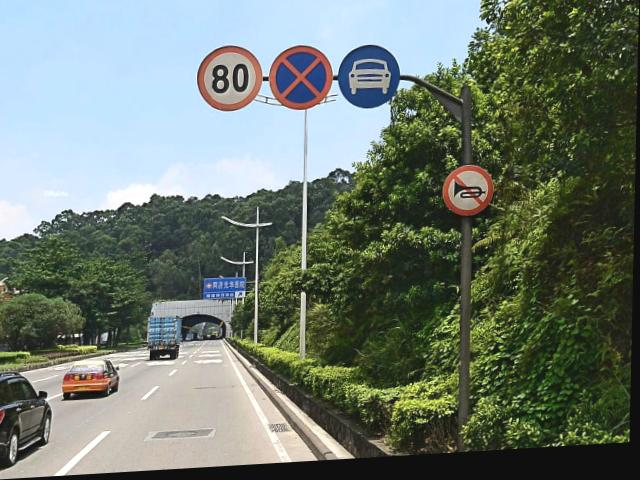limit80: (195, 46, 263, 116)
